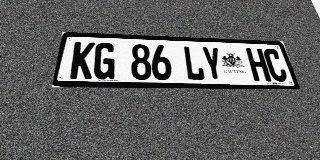6: (151, 45, 172, 80)
8: (131, 44, 151, 80)
C: (262, 49, 289, 82)
G: (92, 43, 116, 79)
H: (245, 48, 272, 81)
K: (69, 42, 95, 79)
L: (182, 46, 205, 81)
Y: (201, 46, 225, 81)
